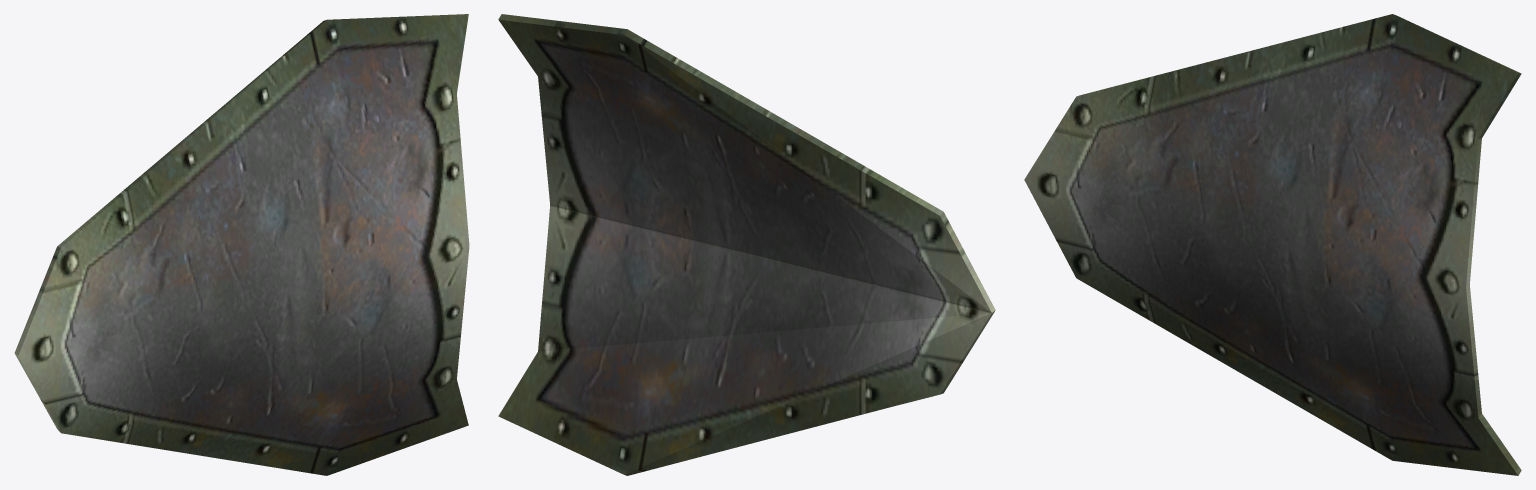
The picture shows the model from 3 angles, left to right: view 1: azimuth 30°, elevation 25°; view 2: azimuth 150°, elevation 25°; view 3: azimuth 330°, elevation 25°; orthographic projection. The views are drawn at different scales.
Visible parts, largest first — view 1: it10665; view 2: it10665; view 3: it10665.
Boxes of the visible parts, <box> form: it10665: <box>14,14,469,475</box>; it10665: <box>498,14,995,475</box>; it10665: <box>1024,14,1521,475</box>.
Bounding box in the file's own units: 2.08 × 1.9 × 0.2797.
1 material, 1 textured.
